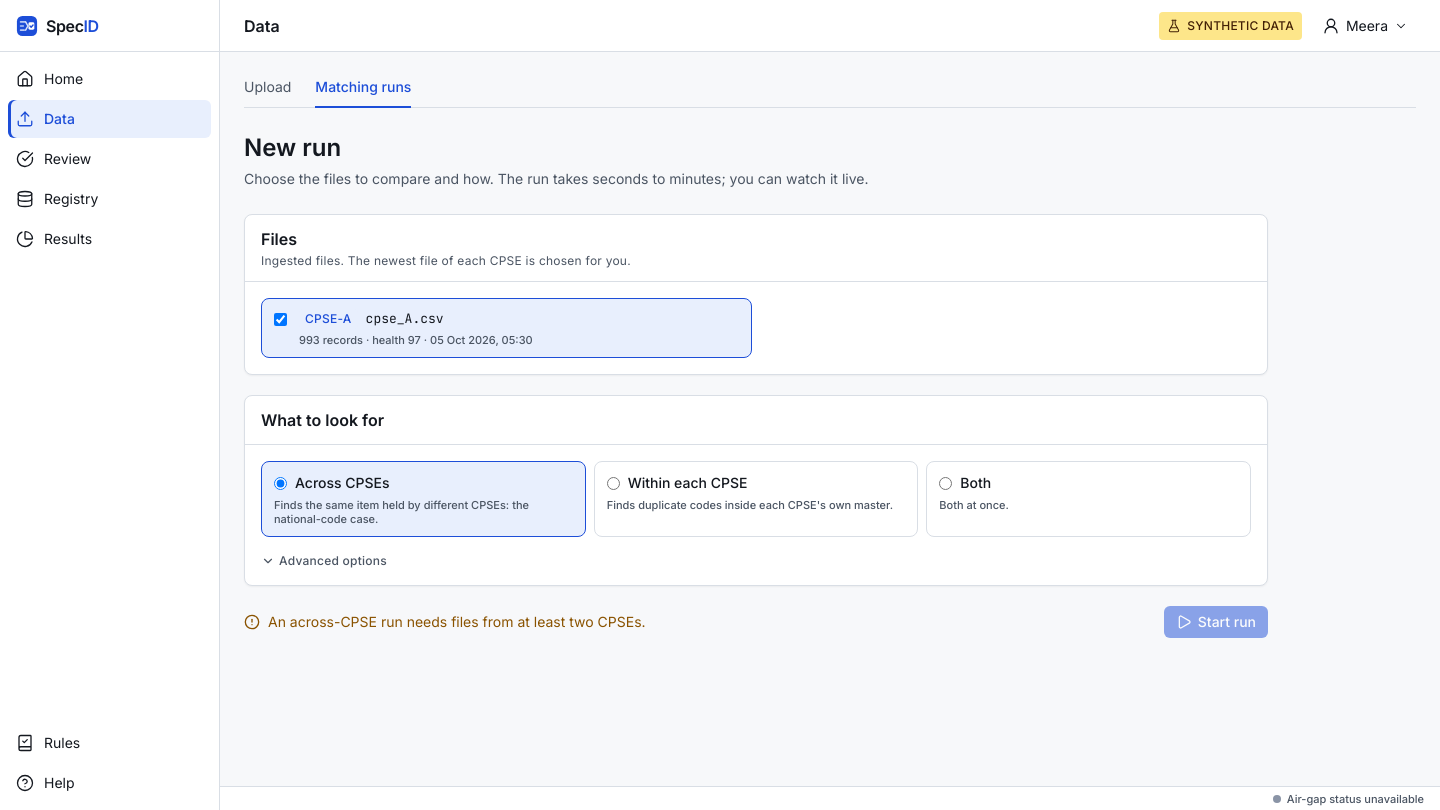
S4 runs › new run needs two CPSEs for an across-CPSE run
The width and height of the screenshot is (1440, 810).
expect the text "An across-CPSE run needs files from at least two CPSEs." is shown: met, box [244,611,646,633]
expect the button "Start run" is disabled: met, box [1164,606,1268,638]
Click the radio button labelled "Within each CPSE": (613, 483) [607,476,620,490]
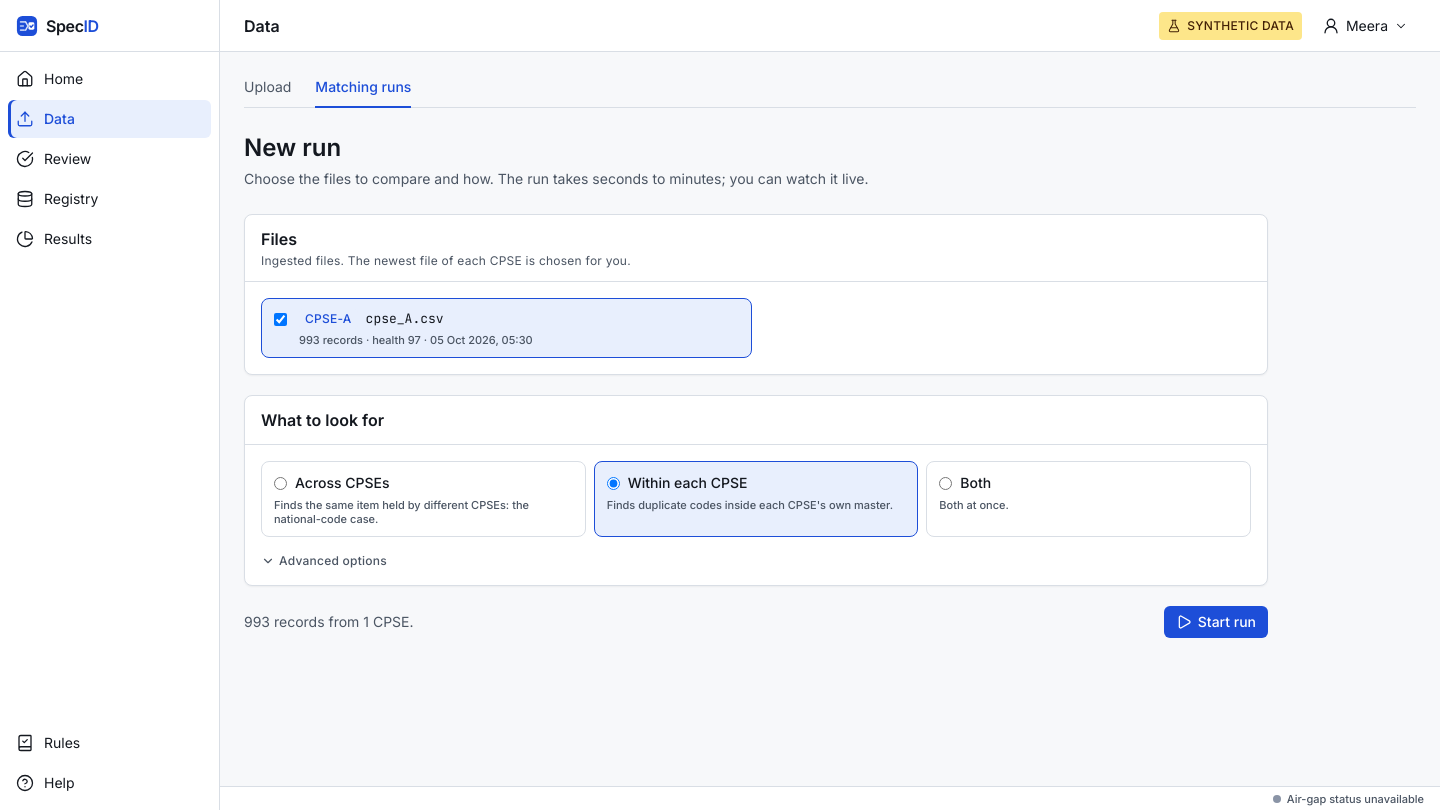
expect the button "Start run" is enabled: met, box [1164,606,1268,638]
